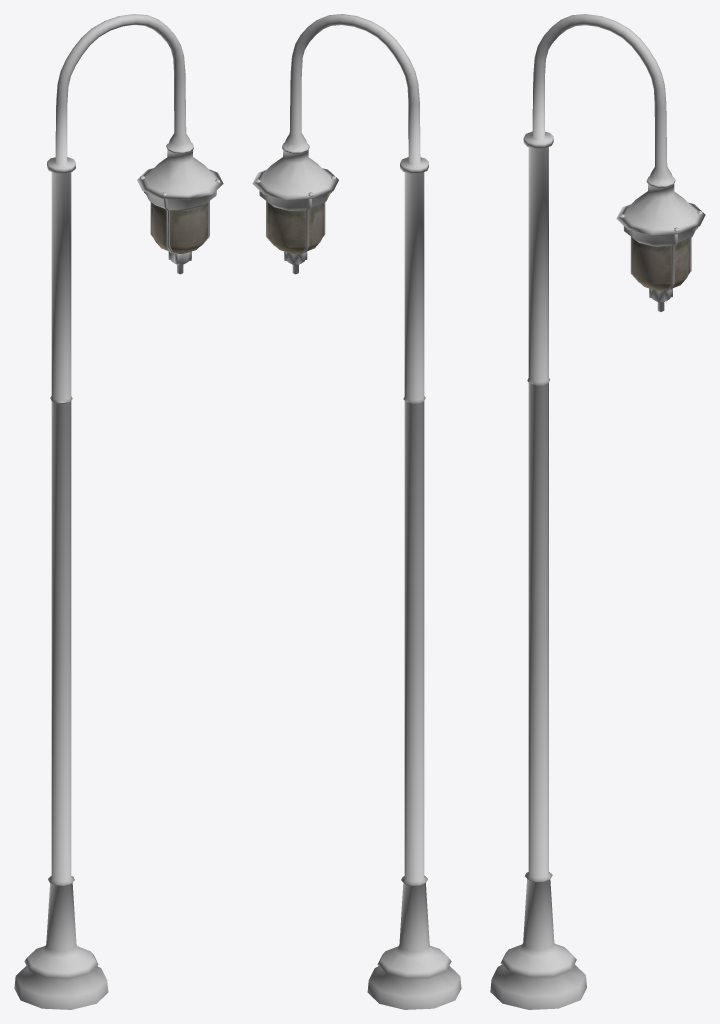
Rendered from StreetLamp_LODGroup.fbx.
The picture shows the model from 3 angles, left to right: view 1: azimuth 30°, elevation 25°; view 2: azimuth 150°, elevation 25°; view 3: azimuth 330°, elevation 25°; orthographic projection. The views are drawn at different scales.
Parts seen in each view (by area): view 1: StreetLamp_LOD0; view 2: StreetLamp_LOD0; view 3: StreetLamp_LOD0.
Part boxes in pixels (x1,y1,x2,y2): StreetLamp_LOD0: [14, 14, 223, 1009]; StreetLamp_LOD0: [252, 14, 461, 1009]; StreetLamp_LOD0: [490, 14, 705, 1009].
Size of what is drawn, in the model's own units: 1 by 4.66 by 0.3959.
